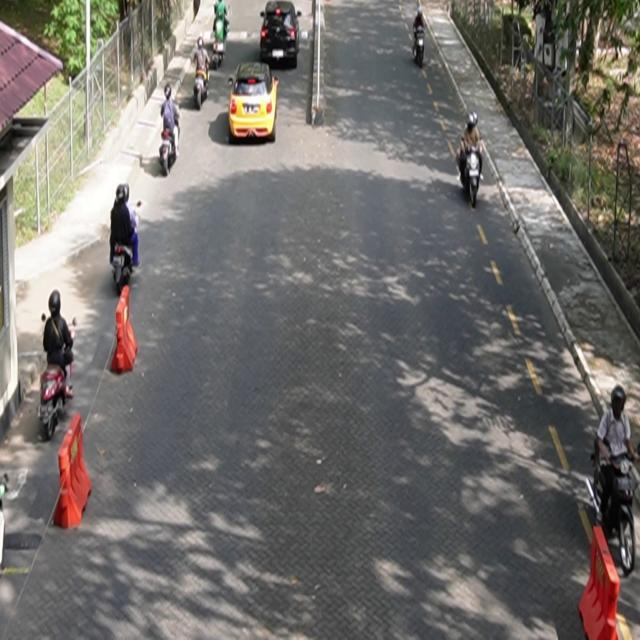car: (228, 62, 280, 144), (261, 1, 303, 69)
